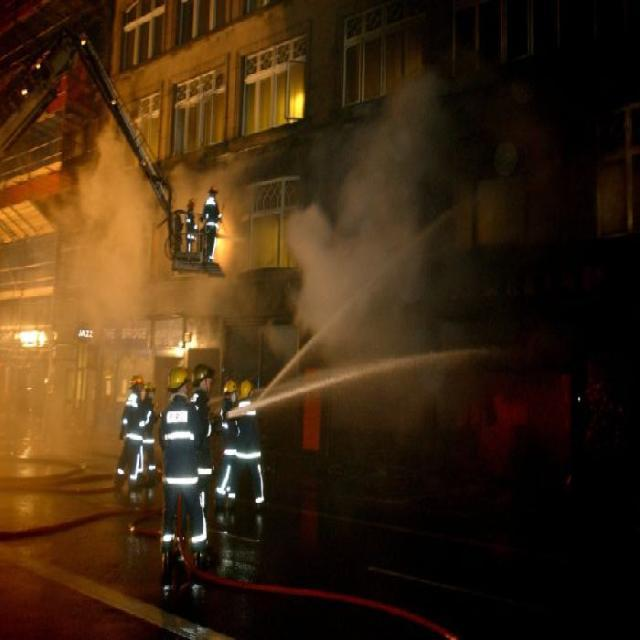Smoke: (86, 160, 136, 374), (362, 126, 418, 233), (300, 208, 344, 300)
